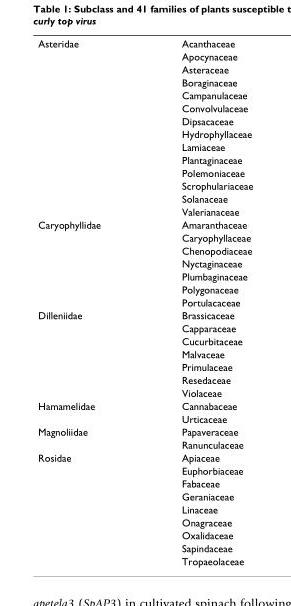table: (37, 37, 252, 566)
table column: (140, 37, 252, 566), (37, 37, 140, 566)
table row: (37, 49, 252, 62), (37, 62, 252, 75), (37, 75, 252, 88), (37, 88, 252, 101), (37, 101, 252, 114), (37, 114, 252, 127), (37, 127, 252, 140), (37, 140, 252, 153), (37, 153, 252, 166), (37, 178, 252, 191), (37, 191, 252, 204), (37, 204, 252, 217), (37, 217, 252, 230), (37, 230, 252, 243), (37, 243, 252, 256), (37, 256, 252, 269), (37, 269, 252, 282), (37, 282, 252, 295), (37, 295, 252, 308), (37, 308, 252, 321), (37, 321, 252, 334), (37, 334, 252, 347), (37, 347, 252, 360), (37, 360, 252, 373), (37, 373, 252, 386), (37, 386, 252, 399), (37, 411, 252, 424), (37, 424, 252, 437), (37, 437, 252, 450), (37, 450, 252, 463), (37, 463, 252, 476), (37, 476, 252, 489), (37, 489, 252, 502), (37, 502, 252, 515), (37, 515, 252, 528), (37, 528, 252, 541), (37, 541, 252, 554), (37, 37, 252, 49), (37, 166, 252, 178), (37, 399, 252, 411), (37, 554, 252, 566)
table spanning cell: (37, 37, 140, 217), (37, 450, 140, 566), (37, 217, 140, 308), (37, 308, 140, 399), (37, 424, 140, 450), (37, 399, 140, 424)
